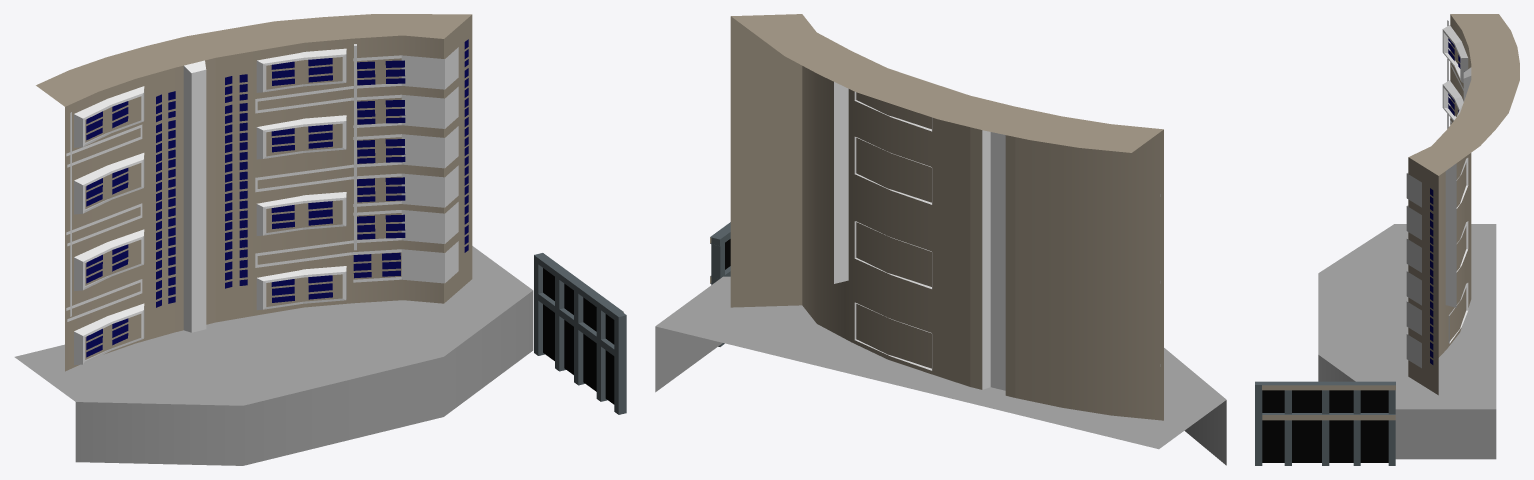
File: Royal Velstand FBX.fbx
The picture shows the model from 3 angles, left to right: view 1: azimuth 30°, elevation 25°; view 2: azimuth 150°, elevation 25°; view 3: azimuth 270°, elevation 25°; orthographic projection. The views are drawn at different scales.
Parts seen in each view (by area): view 1: polySurface353, pCube23, pCube21, pCube22; view 2: polySurface353, pCube23, pCube21; view 3: pCube23, polySurface353, pCube22, pCube21.
Part boxes in pixels (left/top/right/bottom): polySurface353: left=36, top=14, right=472, bottom=371; pCube23: left=14, top=246, right=533, bottom=465; pCube21: left=534, top=253, right=626, bottom=414; pCube22: left=543, top=268, right=614, bottom=404; polySurface353: left=730, top=14, right=1163, bottom=420; pCube23: left=655, top=276, right=1226, bottom=465; pCube21: left=710, top=222, right=730, bottom=346; pCube23: left=1318, top=224, right=1496, bottom=459; polySurface353: left=1406, top=14, right=1519, bottom=395; pCube22: left=1262, top=390, right=1388, bottom=462; pCube21: left=1255, top=381, right=1395, bottom=465.
Bounding box in the file's own units: 104 × 69.61 × 61.39.
